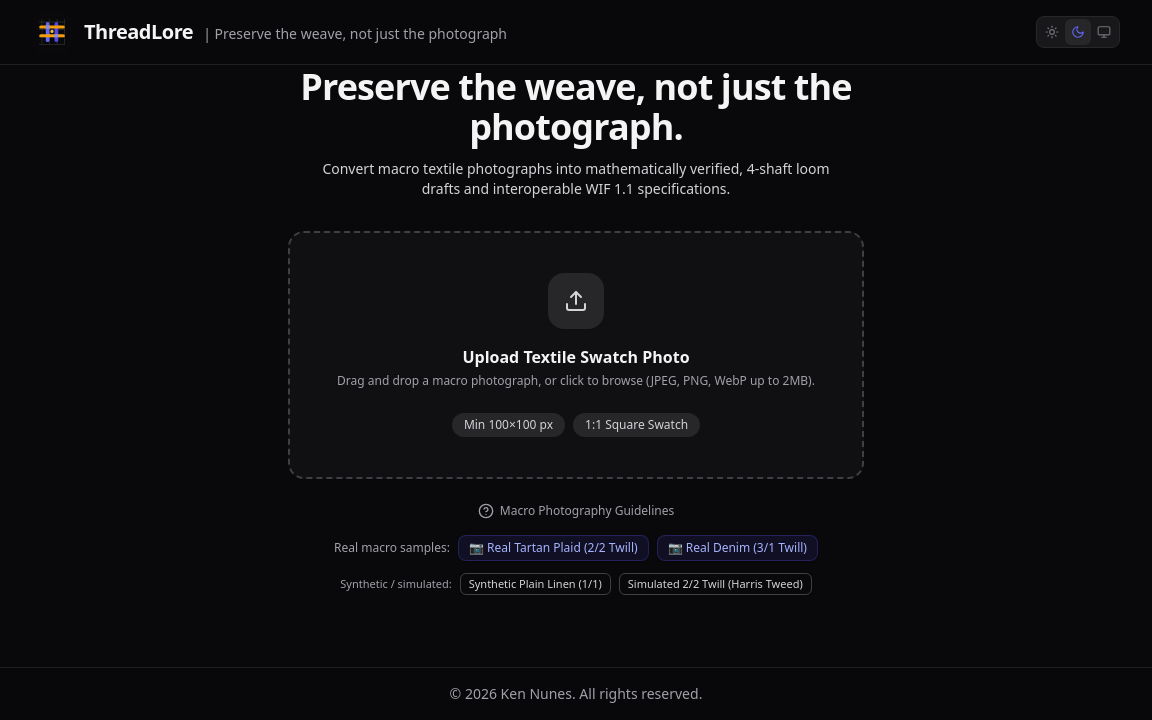
Test: Issue #22 - Logo Navigation to Home Page Regression Test › should redirect back to the home (upload) page when clicking the brand logo from crop step
(page scrolled)
Expected: the heading "Upload Textile Swatch Photo" is shown, left=462, top=346, right=690, bottom=368
// Select sample swatch to advance to crop step
Click the button "Synthetic Plain Linen (1/1)" at (535, 584), box left=460, top=573, right=611, bottom=595
(page scrolled)
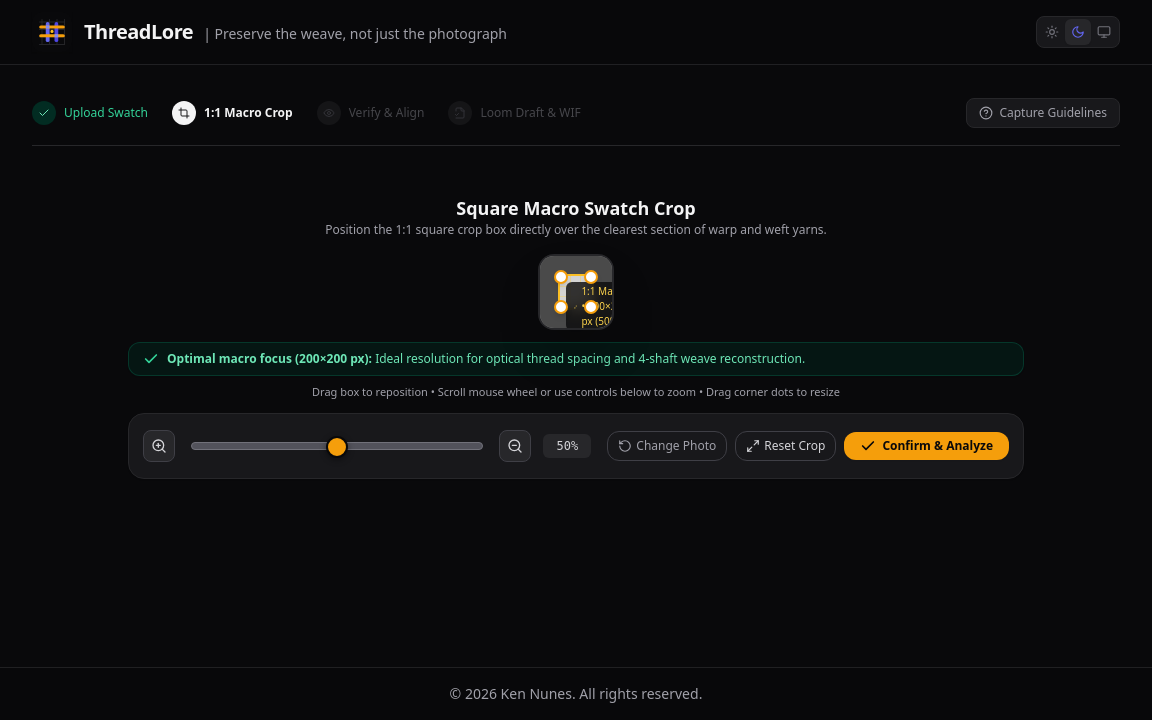
Result: the heading "Square Macro Swatch Crop" is shown at left=456, top=196, right=696, bottom=220
// Click the logo
Click the button "ThreadLore | Preserve the weave, not just the photograph" at (270, 32), box left=28, top=8, right=511, bottom=56
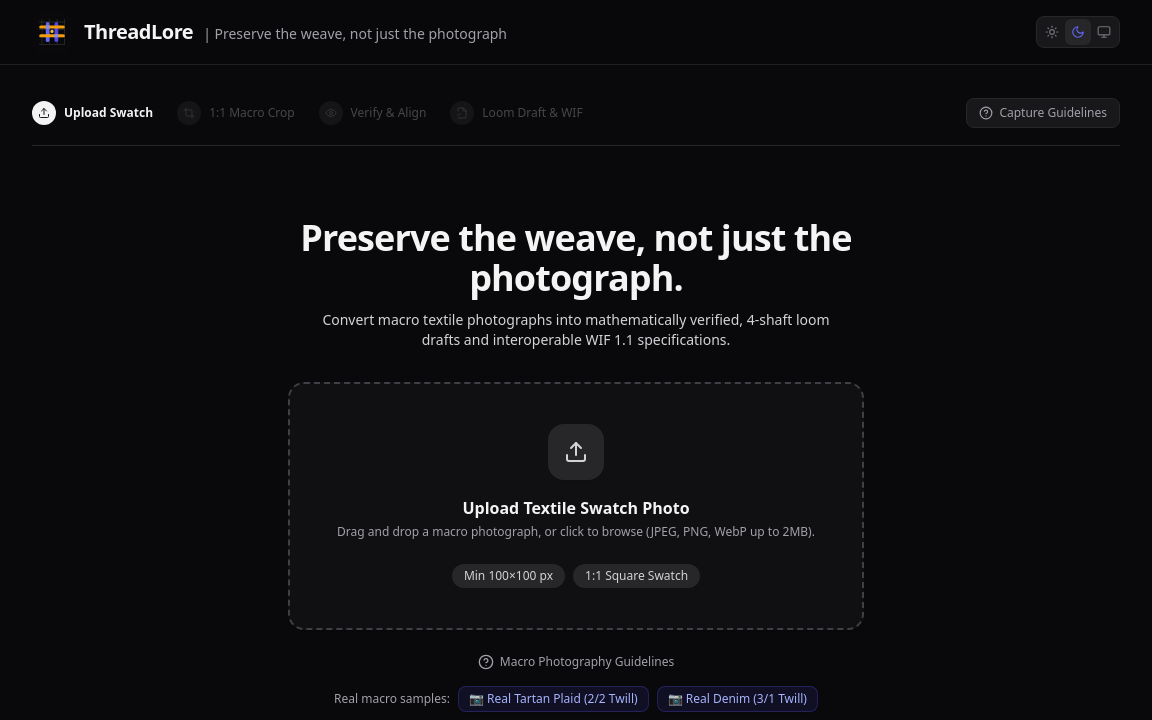
Expected: the button "Verify & Align" is disabled, left=319, top=101, right=426, bottom=125
Result: the heading "Upload Textile Swatch Photo" is shown at left=462, top=497, right=690, bottom=519
Result: the button "1:1 Macro Crop" is disabled at left=177, top=101, right=295, bottom=125
